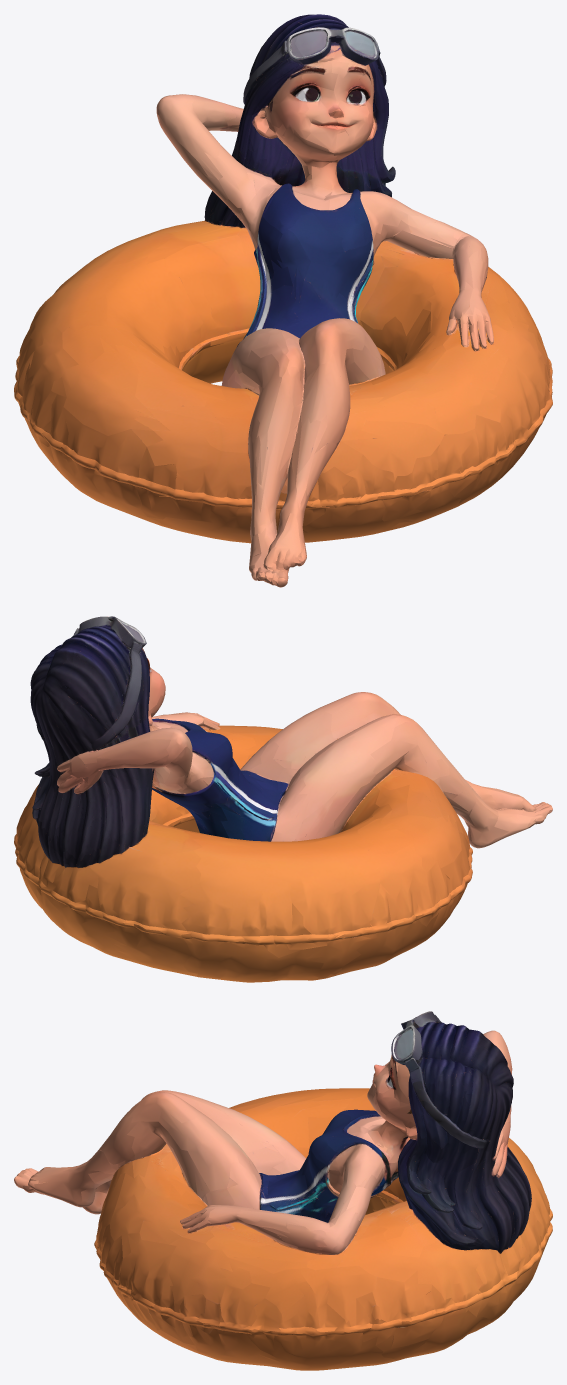
File: annetta.glb
The picture shows the model from 3 angles, top to bottom: view 1: azimuth 30°, elevation 25°; view 2: azimuth 150°, elevation 25°; view 3: azimuth 270°, elevation 25°; orthographic projection. The views are drawn at different scales.
Size of the model in its own units: 1.69 by 1.25 by 1.9.
Materials: 1 (1 with a texture image).
